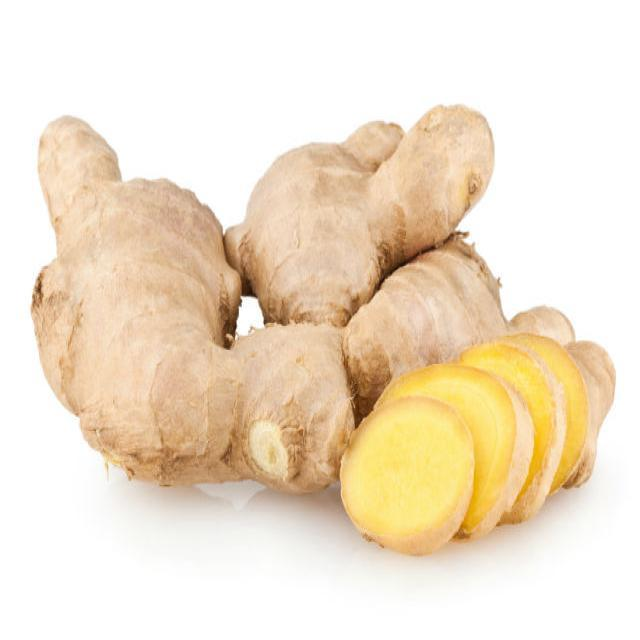ginger: (30, 116, 353, 491), (224, 104, 492, 325), (343, 234, 505, 417)
